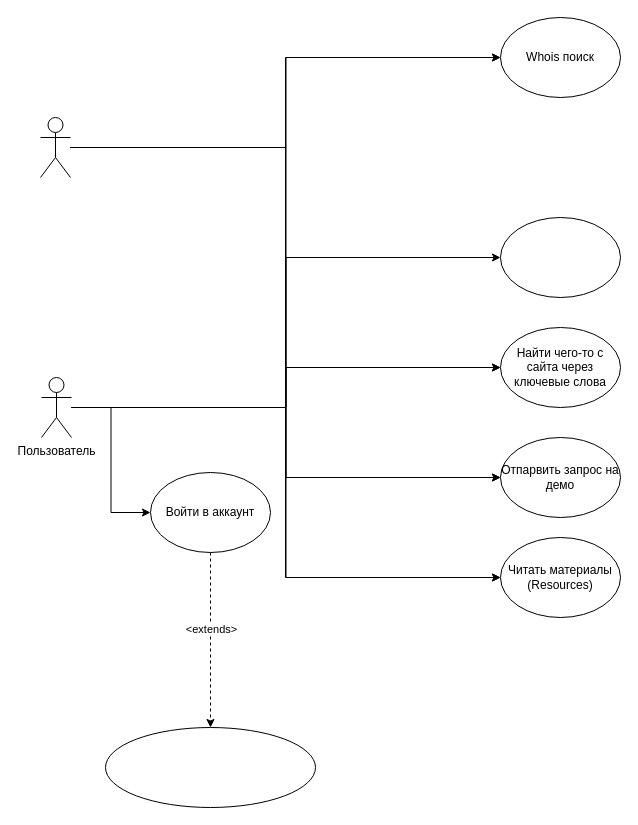
The diagram is 638 pixels wide and 825 high, and some of its shapes have lost their labels. Here are the shapes that lost their labels. From the top down, the centre of each, then its label:
point 55,147: Гость
point 560,257: Смотреть видео-туториалы
point 210,767: Приобрести и пользоваться премиум-услугами (например, расширенные ограничения)
